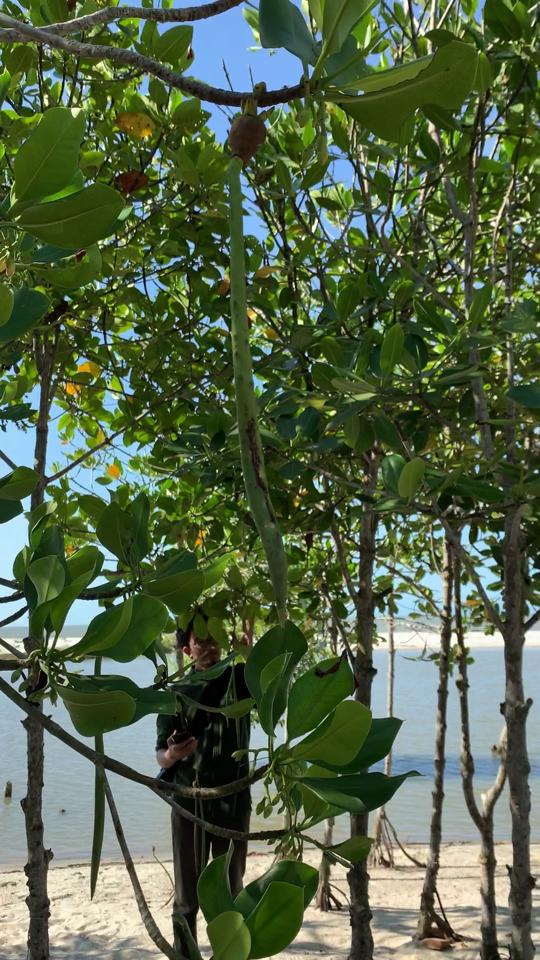setengah matang: (209, 100, 312, 633)
